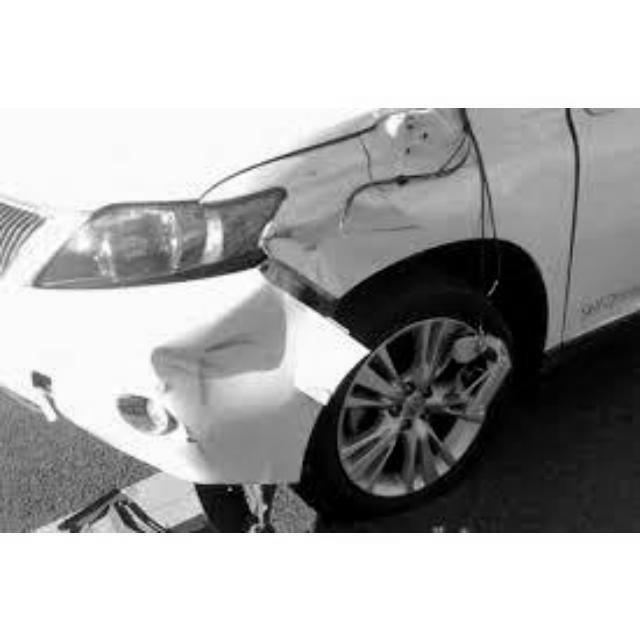fender-dent: (289, 121, 561, 255)
front-bumper-dent: (70, 292, 391, 475)
